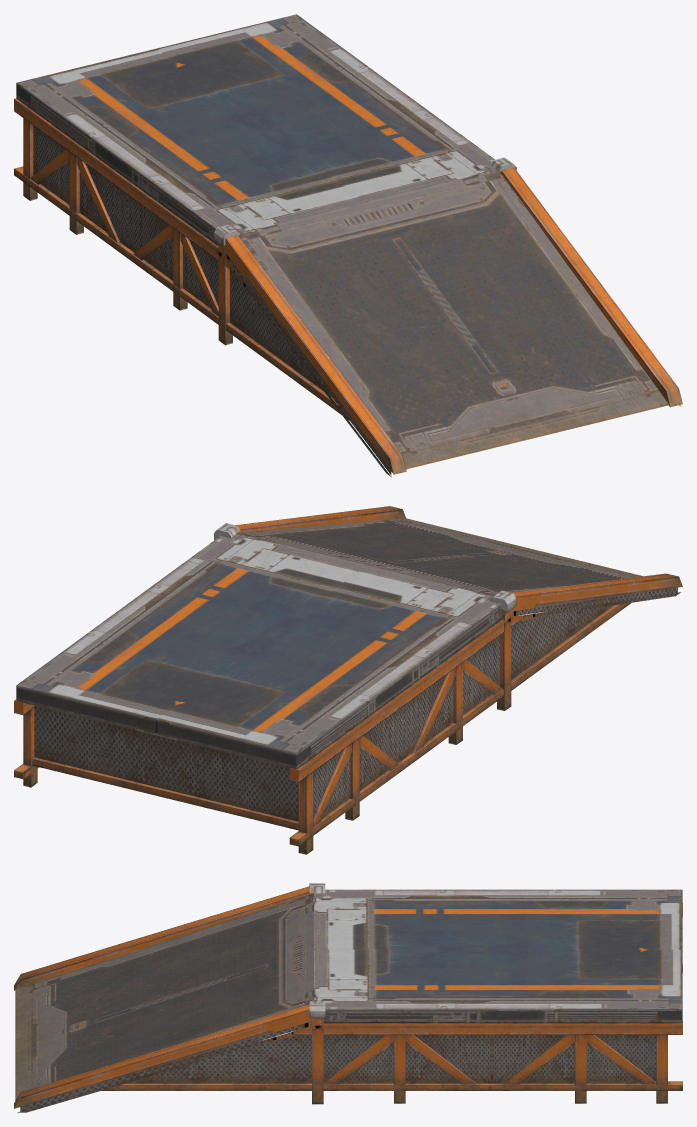
File: Demo_tieti.FBX
The picture shows the model from 3 angles, top to bottom: view 1: azimuth 30°, elevation 25°; view 2: azimuth 150°, elevation 25°; view 3: azimuth 270°, elevation 25°; orthographic projection. The views are drawn at different scales.
Parts seen in each view (by area): view 1: Demo_tieti; view 2: Demo_tieti; view 3: Demo_tieti.
Boxes of the visible parts, x1,y1,x2,y2 form: Demo_tieti: [14, 14, 682, 476]; Demo_tieti: [14, 506, 682, 854]; Demo_tieti: [14, 883, 682, 1112].
Size of the model in its own units: 15.53 by 6.11 by 35.01.
